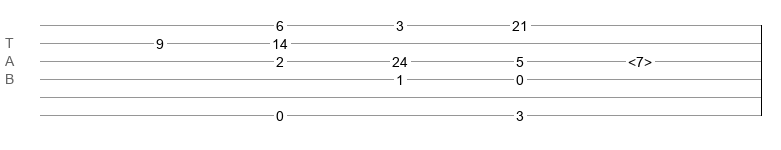0: (276, 108, 284, 118), (516, 72, 524, 82)
1: (396, 72, 404, 82)
14: (272, 36, 288, 46)
2: (276, 54, 284, 64)
21: (512, 18, 528, 28)
24: (392, 54, 408, 64)
3: (396, 18, 404, 28), (516, 108, 524, 118)
5: (516, 54, 524, 64)
6: (276, 18, 284, 28)
9: (156, 36, 164, 46)
harmonic: (628, 54, 652, 64)
